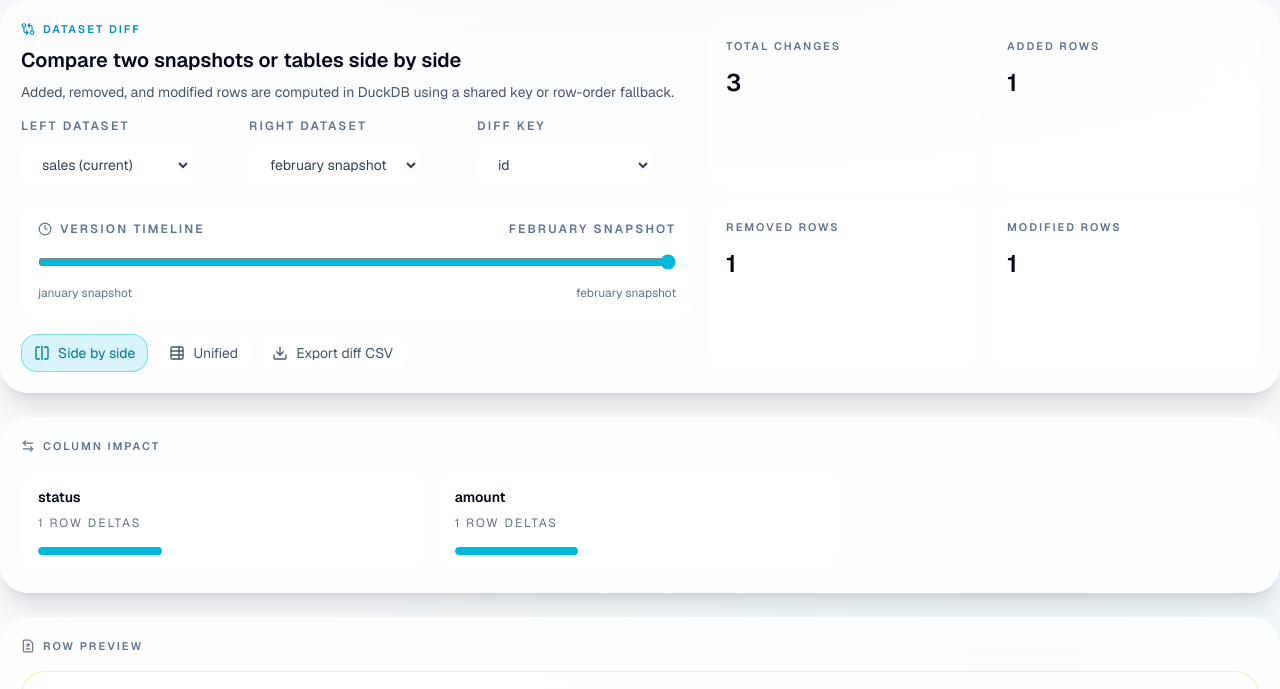
Test: DataDiff › reruns the diff when the right dataset changes
Select "january snapshot" in the dropdown labelled "Right dataset" at (334, 164), box [249, 142, 420, 188]
(page scrolled)
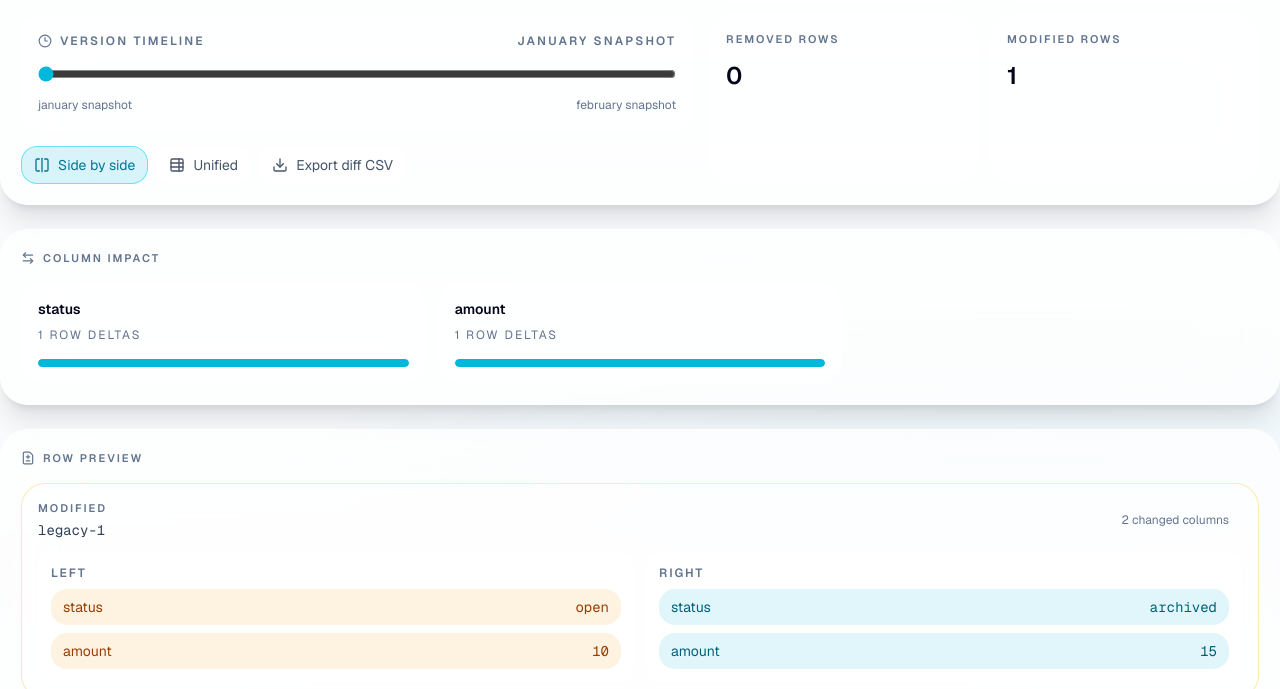
Expected: the text "legacy-1" is shown, [38, 520, 107, 540]
